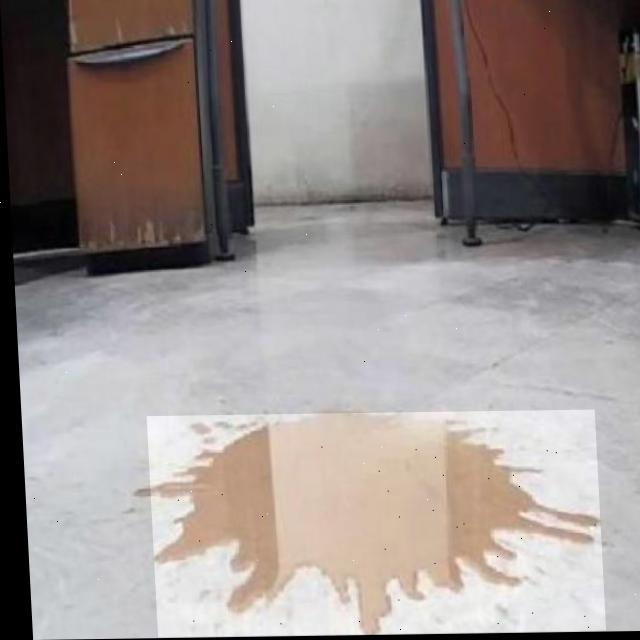spillage: (149, 415, 595, 636)
